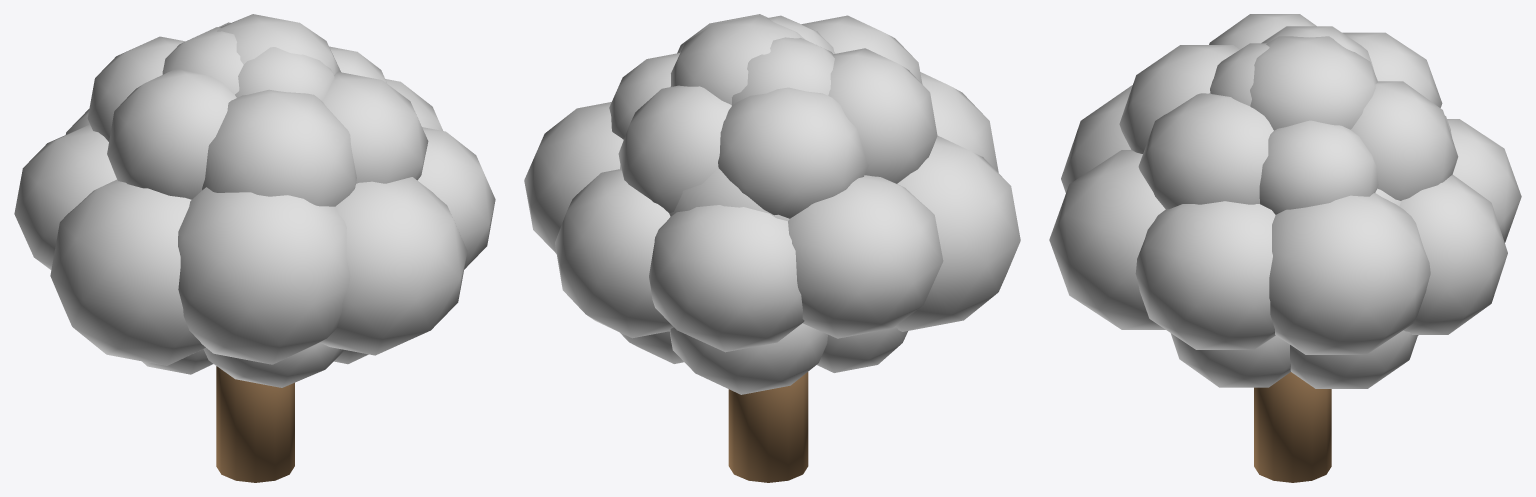
File: tree.fbx
3 renders of one model, left to right at view 1: azimuth 30°, elevation 25°; view 2: azimuth 150°, elevation 25°; view 3: azimuth 270°, elevation 25°, orthographic. The views are drawn at different scales.
Visible parts, largest first — view 1: RoundTree; view 2: RoundTree; view 3: RoundTree.
Boxes of the visible parts, <box> form: RoundTree: <box>14,14,495,482</box>; RoundTree: <box>524,14,1020,482</box>; RoundTree: <box>1049,14,1521,482</box>.
Bounding box in the file's own units: 341 × 343 × 341.
